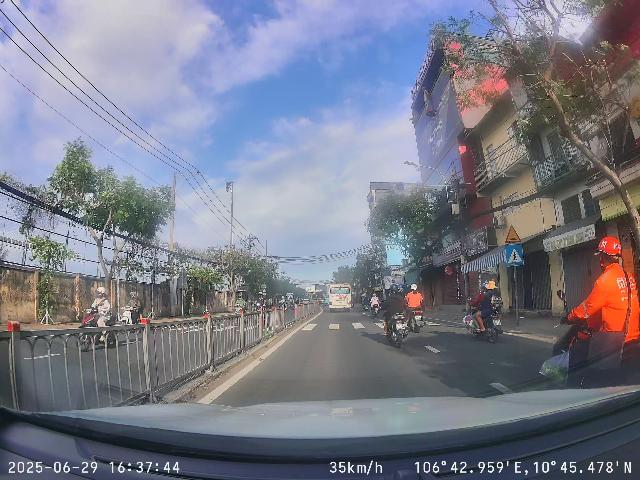221-duong-go-ghe: (505, 224, 521, 243)
423a-duong-nguoi-di-bo-sang-ngang-1: (505, 244, 524, 266)
